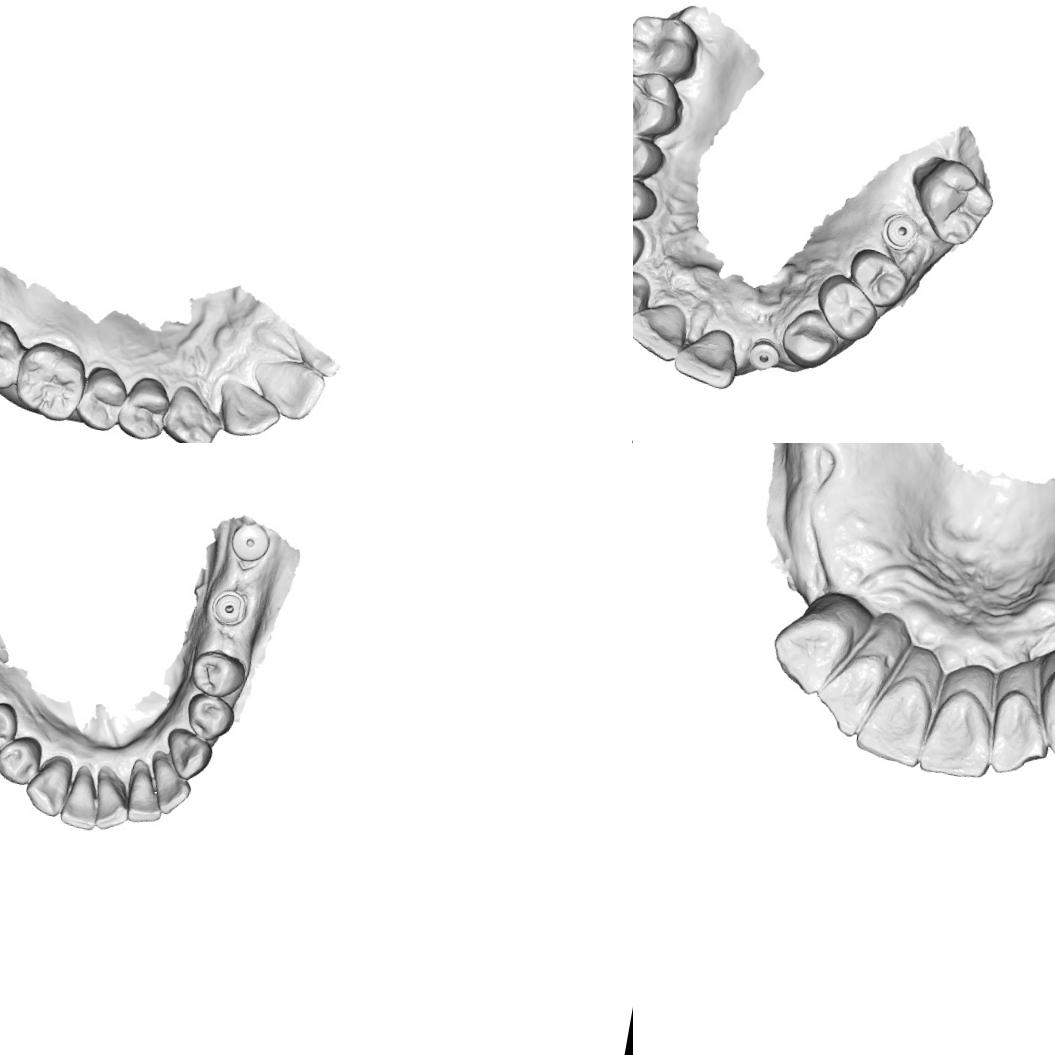canine: (761, 598, 858, 702), (776, 302, 844, 374), (160, 382, 227, 443), (20, 751, 76, 820), (159, 725, 217, 784), (1034, 658, 1055, 764), (633, 214, 648, 278)
implant: (226, 518, 274, 566), (876, 209, 923, 254), (208, 585, 250, 629), (744, 334, 784, 374)
incisor: (848, 663, 937, 770), (915, 678, 1003, 784), (807, 642, 894, 745), (986, 683, 1055, 781), (245, 354, 328, 424), (668, 317, 744, 392), (212, 379, 285, 443), (633, 300, 693, 366), (142, 755, 196, 818), (57, 767, 104, 832), (122, 766, 168, 828), (88, 773, 134, 834), (633, 263, 655, 323)
molar: (901, 150, 1001, 250), (10, 338, 92, 424), (633, 7, 704, 88), (633, 62, 690, 146), (0, 313, 29, 392)
premolar: (808, 269, 883, 344), (842, 244, 912, 312), (115, 371, 174, 442), (72, 363, 130, 434), (185, 644, 251, 702), (180, 689, 239, 746), (0, 729, 45, 789), (633, 130, 668, 185), (633, 170, 660, 227), (0, 694, 23, 756)
